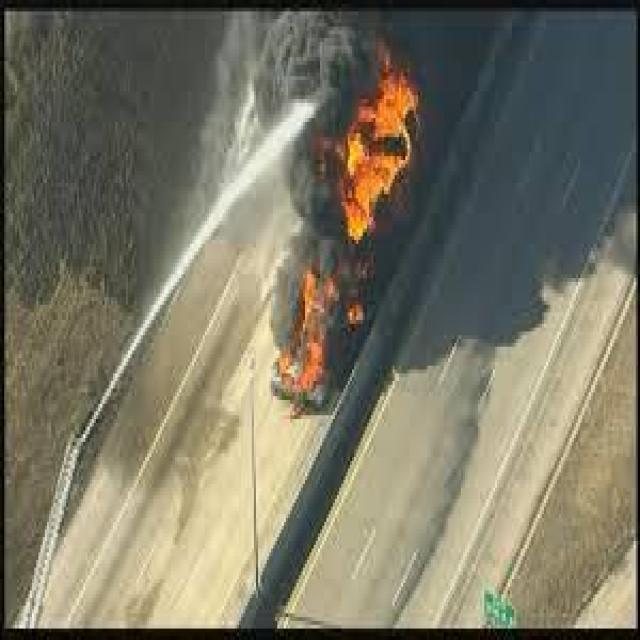fire: (326, 109, 390, 242), (282, 261, 333, 404), (373, 31, 419, 182)
smoke: (217, 1, 359, 223)
